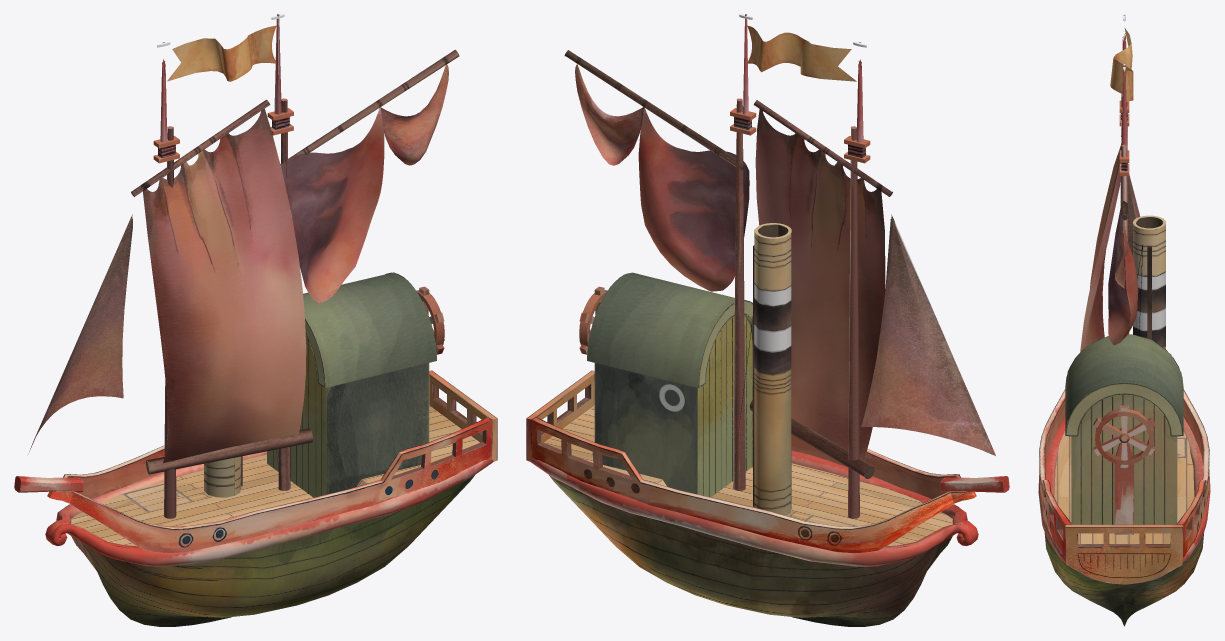
File: boat.glb
The picture shows the model from 3 angles, left to right: view 1: azimuth 30°, elevation 25°; view 2: azimuth 150°, elevation 25°; view 3: azimuth 270°, elevation 25°; orthographic projection. The views are drawn at different scales.
Parts seen in each view (by area): view 1: boat; view 2: boat; view 3: boat.
Boxes of the visible parts, box(x1,y1,x2,y2) form: boat: box(14, 14, 497, 626); boat: box(526, 14, 1009, 626); boat: box(1038, 14, 1210, 626).
Size of the model in its own units: 8.37 by 10.56 by 3.11.
Materials: 13 (12 with a texture image).
